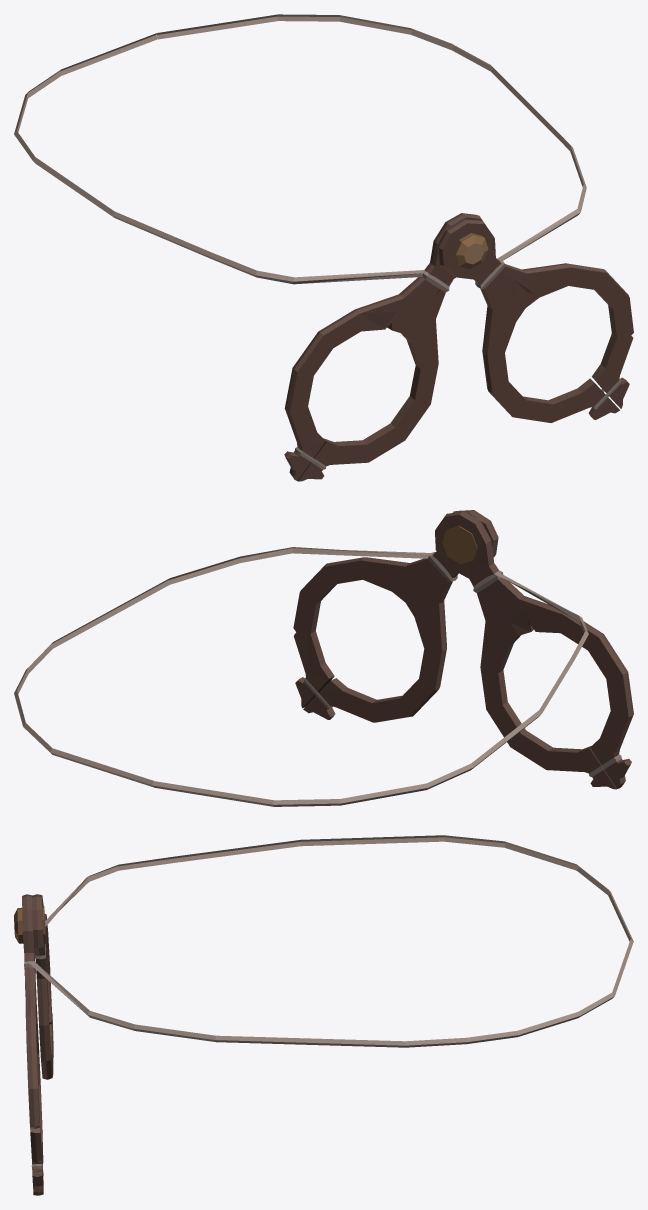
File: venetianSpectaclesFemale.glb
The picture shows the model from 3 angles, top to bottom: view 1: azimuth 30°, elevation 25°; view 2: azimuth 150°, elevation 25°; view 3: azimuth 270°, elevation 25°; orthographic projection. The views are drawn at different scales.
Parts seen in each view (by area): view 1: venetianSpectacles; view 2: venetianSpectacles; view 3: venetianSpectacles.
Boxes of the visible parts, x1,y1,x2,y2 form: venetianSpectacles: (14,14,633,481); venetianSpectacles: (14,510,633,806); venetianSpectacles: (14,835,633,1195).
Bounding box in the file's own units: 0.2144 × 0.1106 × 0.2695.
